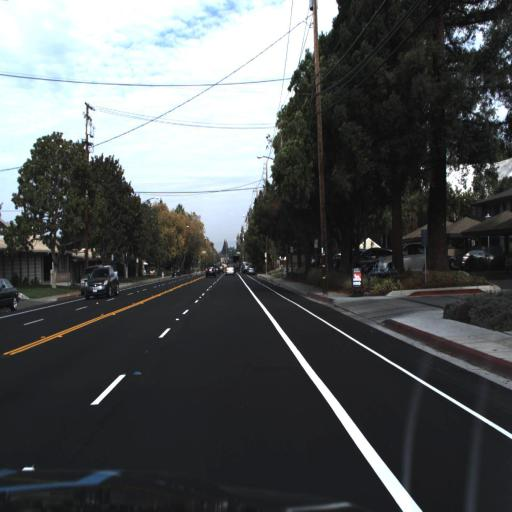car: (373, 238, 429, 275), (81, 263, 119, 300), (0, 277, 18, 315)
